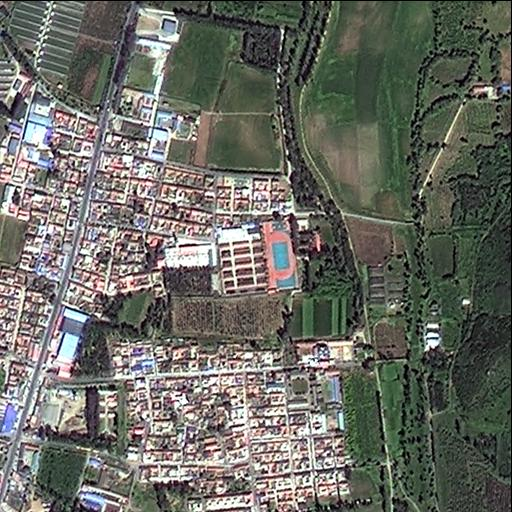school: (212, 215, 301, 298)
